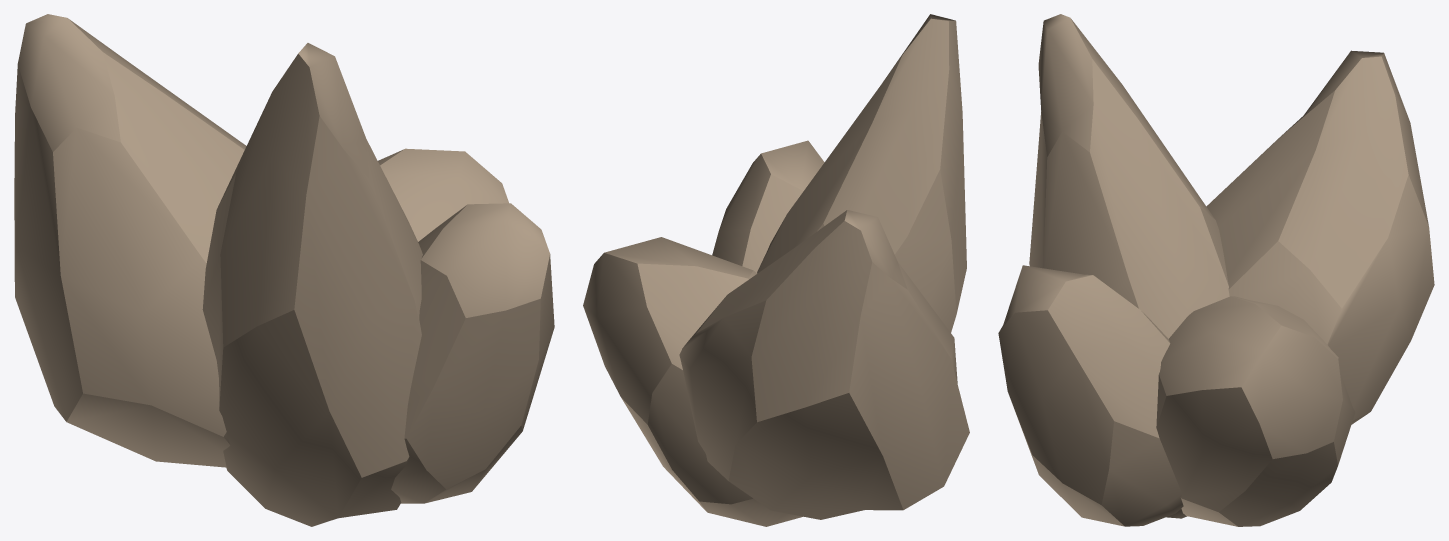
The model's file is rock4.fbx.
The picture shows the model from 3 angles, left to right: view 1: azimuth 30°, elevation 25°; view 2: azimuth 150°, elevation 25°; view 3: azimuth 270°, elevation 25°; orthographic projection. The views are drawn at different scales.
Visible parts, largest first — view 1: rock4; view 2: rock4; view 3: rock4.
Boxes of the visible parts, x1,y1,x2,y2 form: rock4: (14, 14, 554, 526); rock4: (583, 14, 969, 526); rock4: (998, 14, 1434, 526).
Bounding box in the file's own units: 189 × 221 × 190.
